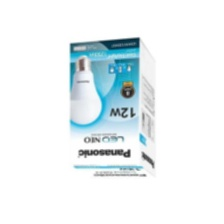carton: (63, 31, 158, 185)
